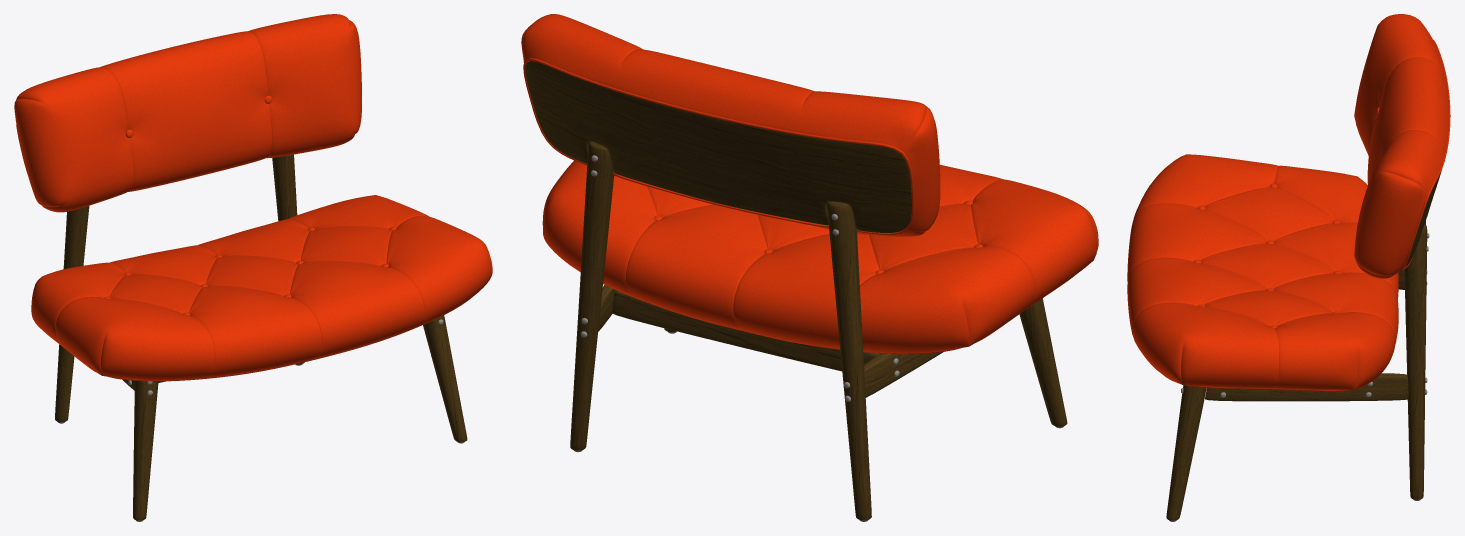
The model's file is chair_remake_with_drako.glb.
3 renders of one model, left to right at view 1: azimuth 30°, elevation 25°; view 2: azimuth 150°, elevation 25°; view 3: azimuth 270°, elevation 25°, orthographic. The views are drawn at different scales.
Parts seen in each view (by area): view 1: SheenChair_fabric; view 2: SheenChair_fabric; view 3: SheenChair_fabric.
Part boxes in pixels (x1=…): SheenChair_fabric: x1=14, y1=14, x2=492, y2=521; SheenChair_fabric: x1=521, y1=14, x2=1098, y2=521; SheenChair_fabric: x1=1127, y1=14, x2=1450, y2=521.
Size of the model in its own units: 0.8266 by 0.6863 by 0.5703.
4 materials, 3 textured.
